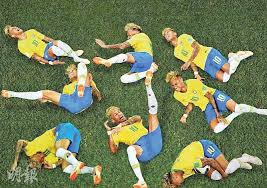fall: (157, 137, 259, 186)
